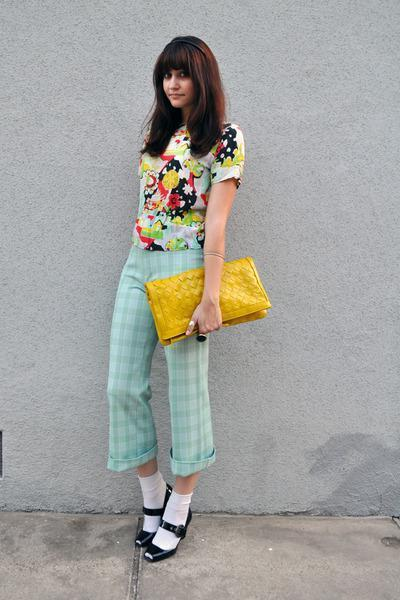short sleeve shirt: (126, 119, 248, 256)
trousers: (100, 244, 219, 479)
